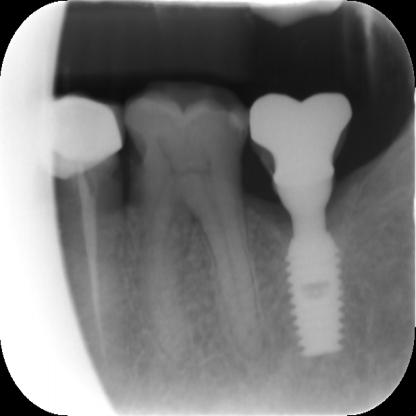Bicon: (283, 221, 346, 363)
